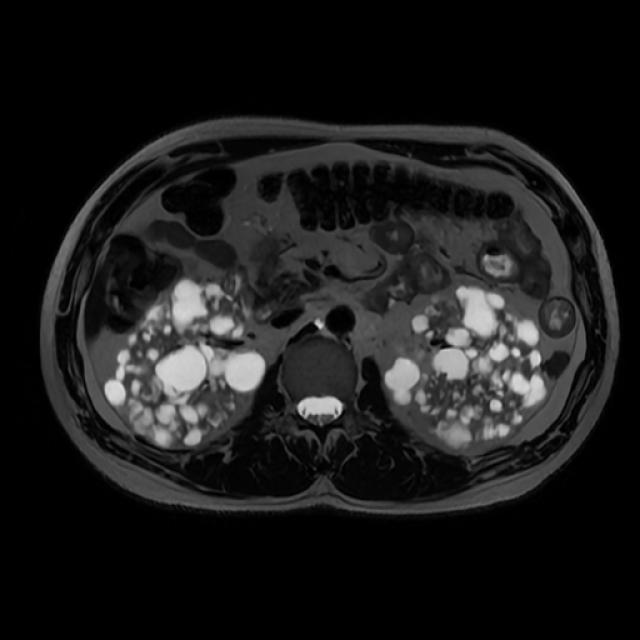sag: (105, 283, 263, 444)
sol: (388, 290, 545, 447)
